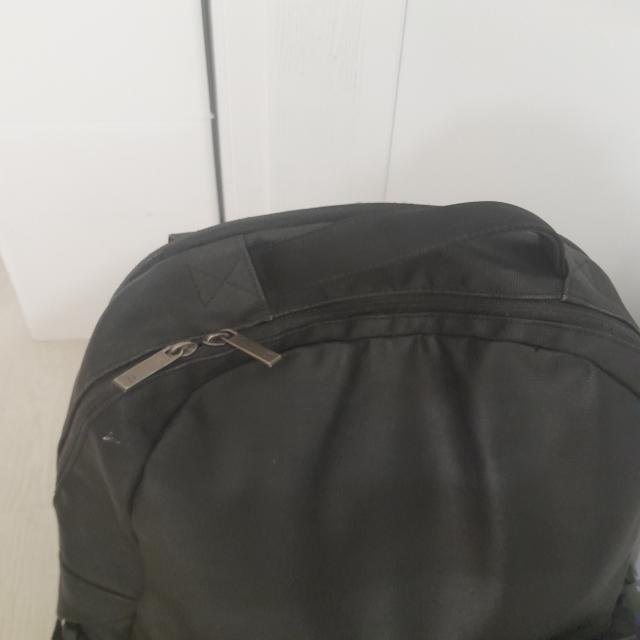backpack: (55, 202, 640, 640)
